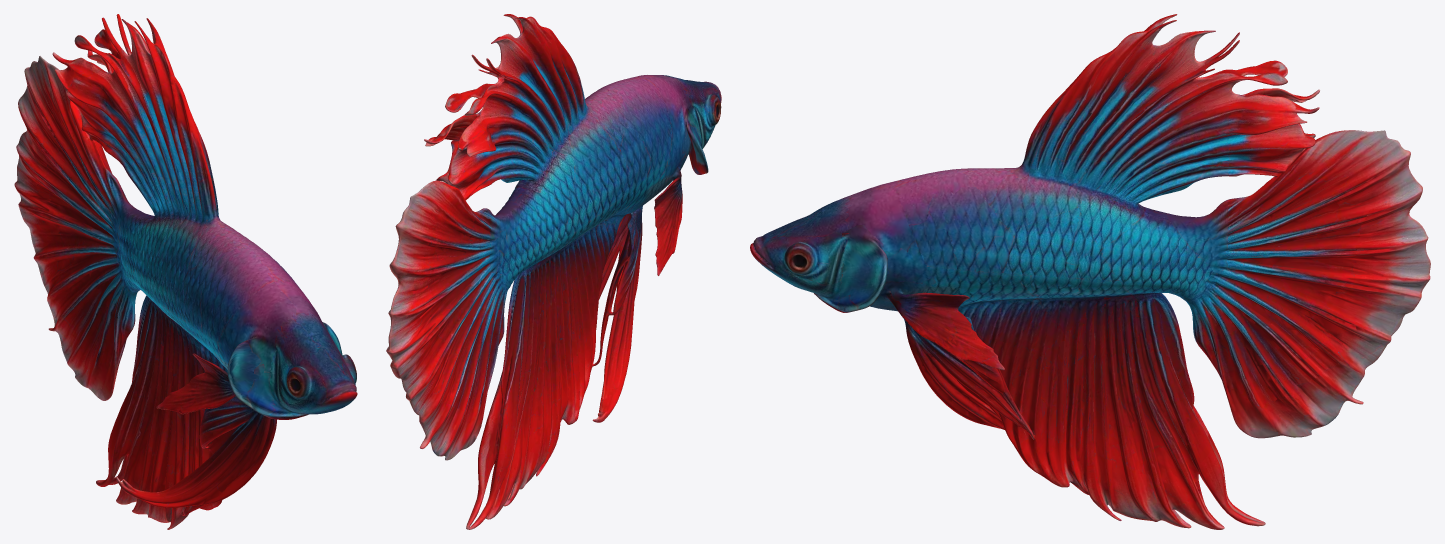
Rendered from Betta.glb.
The picture shows the model from 3 angles, left to right: view 1: azimuth 30°, elevation 25°; view 2: azimuth 150°, elevation 25°; view 3: azimuth 270°, elevation 25°; orthographic projection. The views are drawn at different scales.
Size of the model in its own units: 0.4545 by 1.57 by 1.9.
Materials: 1 (1 with a texture image).
